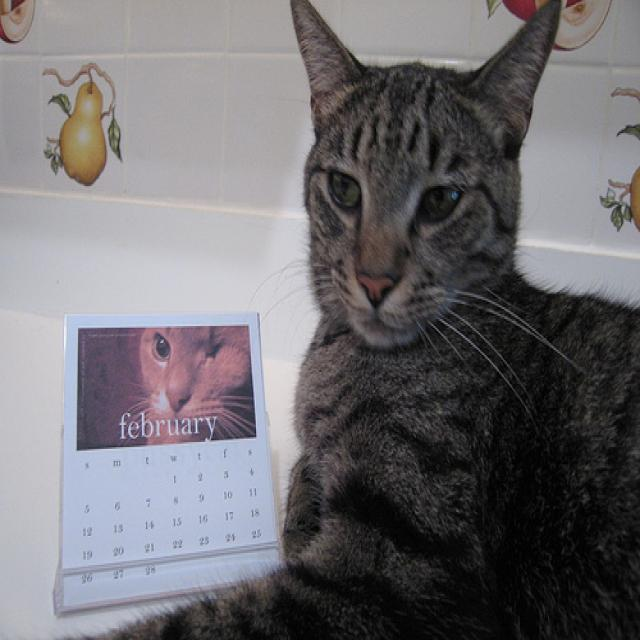left eye: (418, 179, 463, 222)
